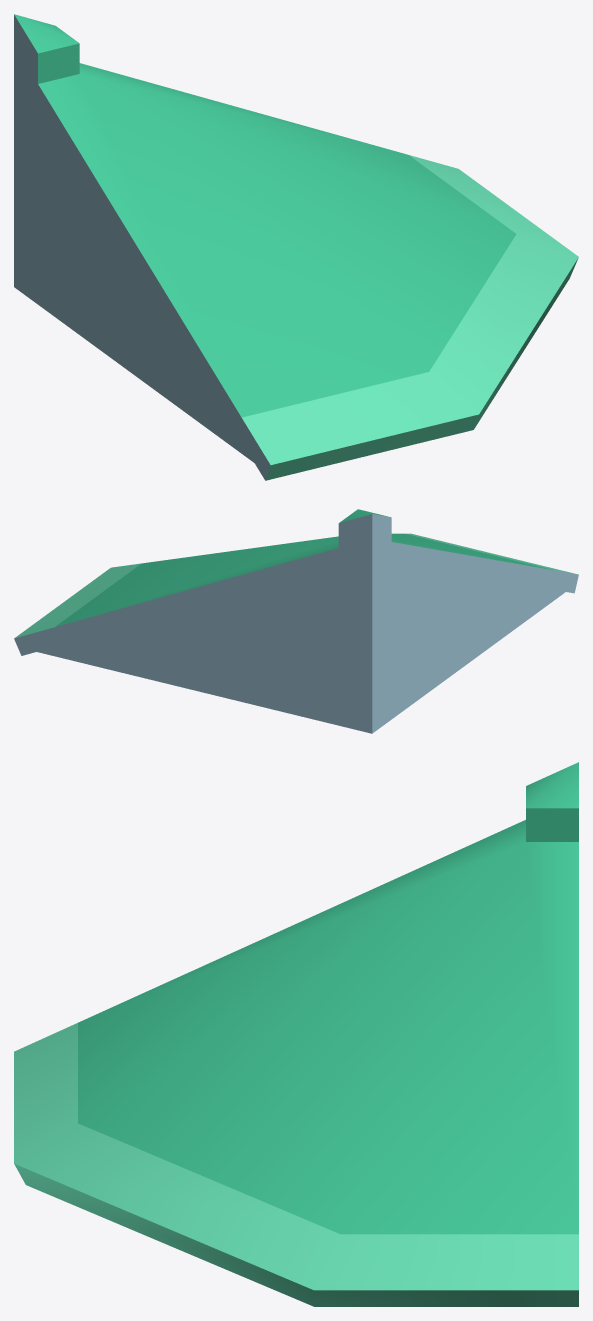
Rendered from roofCornerRound.dae.
3 renders of one model, top to bottom at view 1: azimuth 30°, elevation 25°; view 2: azimuth 150°, elevation 25°; view 3: azimuth 270°, elevation 25°, orthographic. The views are drawn at different scales.
Parts seen in each view (by area): view 1: roofCornerRound; view 2: roofCornerRound; view 3: roofCornerRound.
Boxes of the visible parts, x1,y1,x2,y2 form: roofCornerRound: (14, 14, 578, 480); roofCornerRound: (14, 509, 578, 733); roofCornerRound: (14, 762, 578, 1306).
Bounding box in the file's own units: 1.07 × 0.6483 × 1.07.
